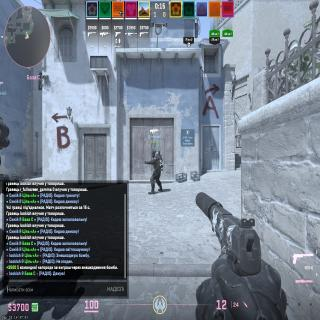CT-Body: (0, 116, 11, 291), (146, 149, 163, 194)
CT-Head: (0, 116, 10, 150), (151, 149, 156, 158)
